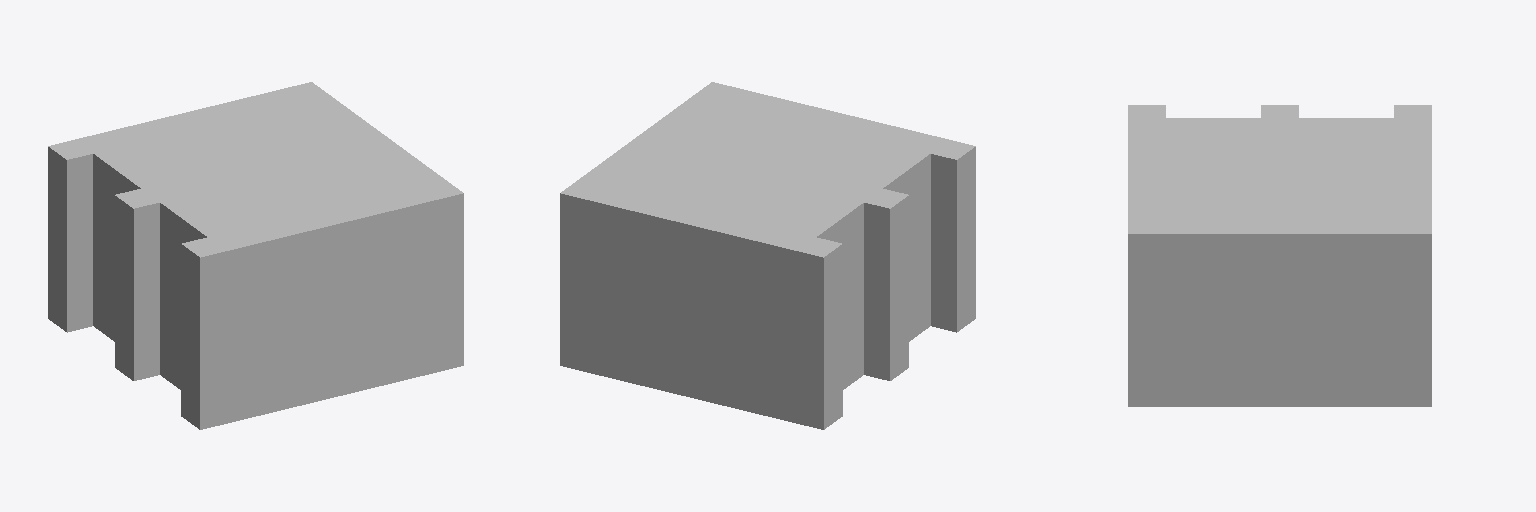
The picture shows the model from 3 angles: view 1: azimuth 30°, elevation 25°; view 2: azimuth 150°, elevation 25°; view 3: azimuth 270°, elevation 25°; orthographic projection.
Parts seen in each view (by area): view 1: G-__555744_G-__555744_Brick, G-__555744_G-__555744_Glass; view 2: G-__555744_G-__555744_Brick, G-__555744_G-__555744_Glass; view 3: G-__555744_G-__555744_Brick.
Part boxes in pixels (x1,y1,x2,y2): G-__555744_G-__555744_Brick: (48,82,463,429); G-__555744_G-__555744_Glass: (93,154,206,389); G-__555744_G-__555744_Brick: (560,82,975,429); G-__555744_G-__555744_Glass: (817,154,930,389); G-__555744_G-__555744_Brick: (1128,105,1431,406).
Size of the model in its own units: 1 by 0.625 by 1.